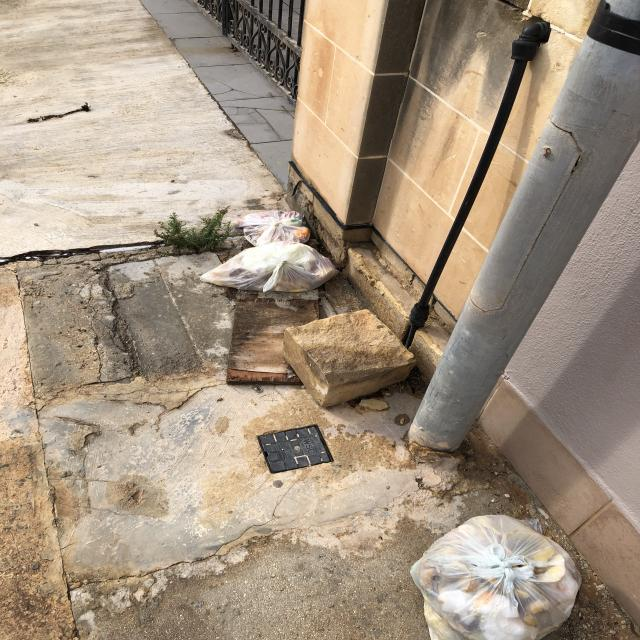Organic Waste -White Bag-: (412, 516, 581, 640), (201, 243, 339, 294), (231, 211, 312, 248)
